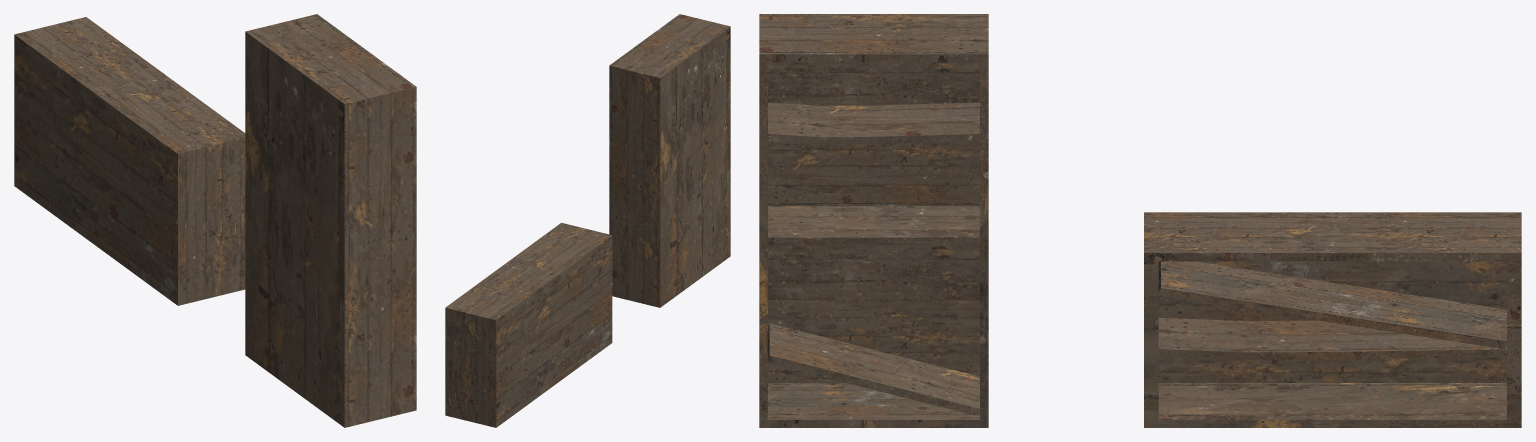
Rendered from old_wooden_bookshelves.glb.
3 renders of one model, left to right at view 1: azimuth 30°, elevation 25°; view 2: azimuth 150°, elevation 25°; view 3: azimuth 270°, elevation 25°, orthographic. The views are drawn at different scales.
Parts seen in each view (by area): view 1: Cube_0, Cube.001_1; view 2: Cube_0, Cube.001_1; view 3: Cube_0, Cube.001_1.
Part boxes in pixels (<box>): Cube_0: <box>245,14,416,427</box>; Cube.001_1: <box>14,17,245,305</box>; Cube_0: <box>609,14,730,307</box>; Cube.001_1: <box>445,223,612,427</box>; Cube_0: <box>759,14,988,427</box>; Cube.001_1: <box>1144,212,1521,427</box>.
Size of the model in its own units: 0.8347 by 3.59 by 6.65.
1 material, 1 textured.
